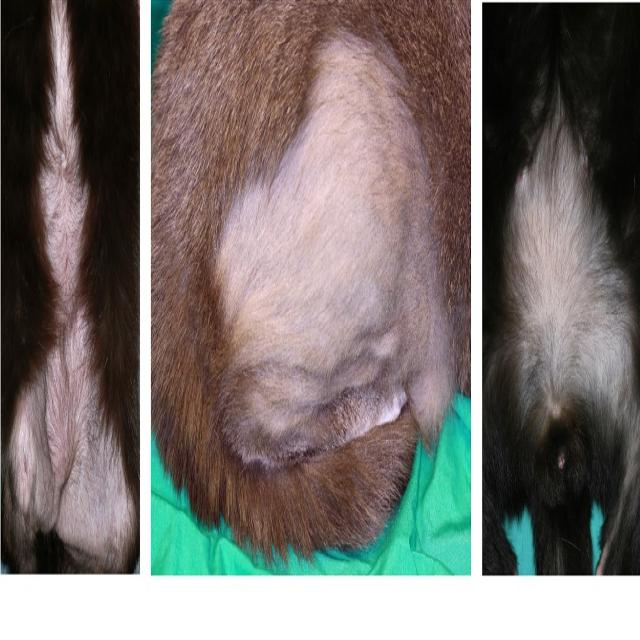cat-hairloss: (210, 64, 436, 445), (519, 144, 617, 420), (16, 392, 119, 554), (44, 6, 85, 382)
